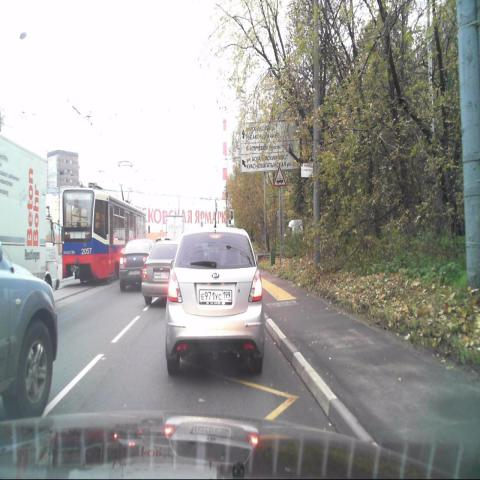1_5: (274, 165, 285, 187)
